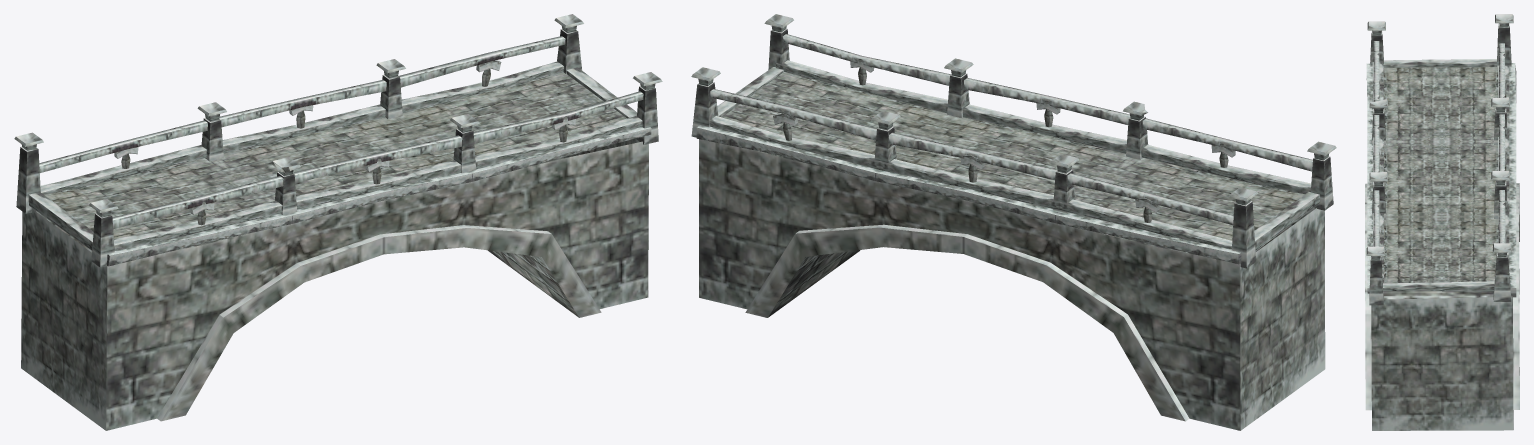
The model's file is S_Build_Snowland104.FBX.
3 views of the same model, side by side, from view 1: azimuth 30°, elevation 25°; view 2: azimuth 150°, elevation 25°; view 3: azimuth 270°, elevation 25° (orthographic). The views are drawn at different scales.
Parts seen in each view (by area): view 1: S_Build_Snowland104; view 2: S_Build_Snowland104; view 3: S_Build_Snowland104.
Part boxes in pixels (box(x1,y1,x2,y2)): S_Build_Snowland104: box(14, 14, 662, 430); S_Build_Snowland104: box(691, 14, 1336, 430); S_Build_Snowland104: box(1365, 14, 1519, 430).
Bounding box in the file's own units: 2042 × 585 × 813.
